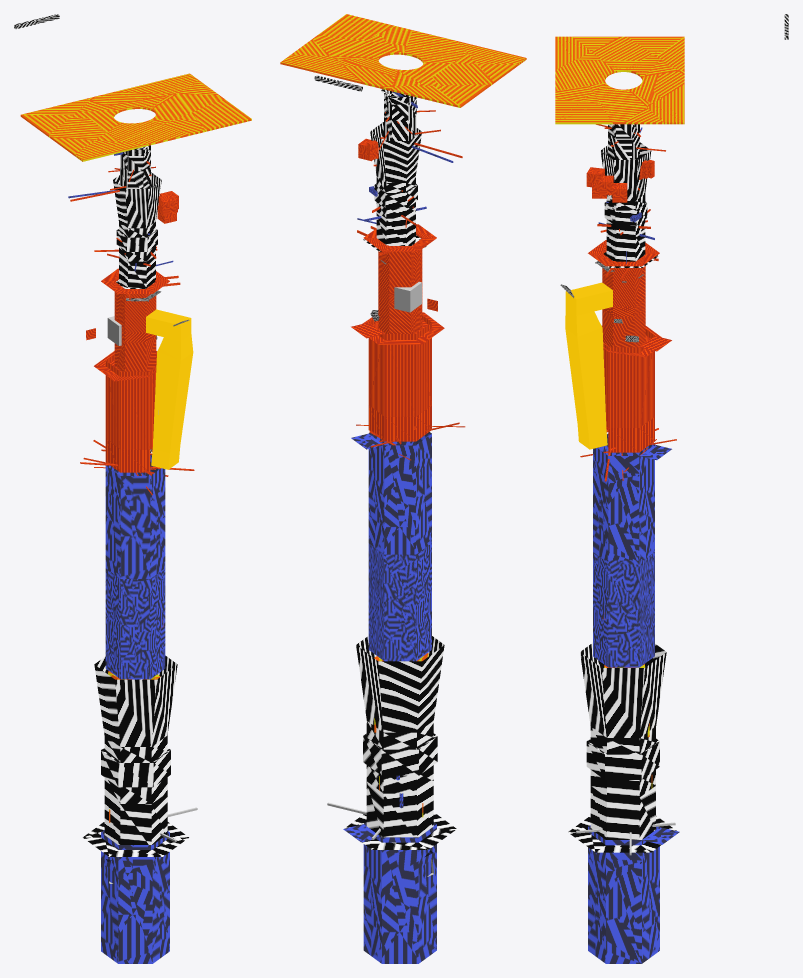
Rendered from collision-world.glb.
3 views of the same model, side by side, from view 1: azimuth 30°, elevation 25°; view 2: azimuth 150°, elevation 25°; view 3: azimuth 270°, elevation 25° (orthographic). The views are drawn at different scales.
Parts seen in each view (by area): view 1: Cylinder.004, FLOOR.001, safa.001, Cylinder.008, Cylinder.001, Cylinder.002, Cylinder.006, Cylinder.005, Cylinder.007; view 2: Cylinder.004, FLOOR.001, Cylinder.008, Cylinder.001, Cylinder.002, Cylinder.006, safa.001, Cylinder.005, Cylinder.007, Cube.048; view 3: Cylinder.004, FLOOR.001, safa.001, Cylinder.008, Cylinder.001, Cylinder.002, Cylinder.006, Cylinder.005, Cylinder.007.
Boxes of the visible parts, <box> form: Cylinder.004: <box>83,655,188,856</box>; FLOOR.001: <box>20,73,251,161</box>; safa.001: <box>86,268,193,469</box>; Cylinder.008: <box>101,830,169,963</box>; Cylinder.001: <box>105,455,165,578</box>; Cylinder.002: <box>105,568,165,679</box>; Cylinder.006: <box>105,354,156,472</box>; Cylinder.005: <box>113,172,161,288</box>; Cylinder.007: <box>120,145,150,188</box>; Cylinder.004: <box>344,636,456,849</box>; FLOOR.001: <box>280,14,526,107</box>; Cylinder.008: <box>343,822,436,963</box>; Cylinder.001: <box>351,432,431,554</box>; Cylinder.002: <box>368,543,431,661</box>; Cylinder.006: <box>351,315,431,441</box>; safa.001: <box>362,224,444,344</box>; Cylinder.005: <box>363,122,421,251</box>; Cylinder.007: <box>381,89,416,140</box>; Cube.048: <box>394,281,421,312</box>; Cylinder.004: <box>568,643,676,852</box>; FLOOR.001: <box>555,36,684,124</box>; safa.001: <box>565,240,661,449</box>; Cylinder.008: <box>588,825,679,963</box>; Cylinder.001: <box>593,434,671,560</box>; Cylinder.002: <box>593,552,654,667</box>; Cylinder.006: <box>603,329,671,452</box>; Cylinder.005: <box>600,142,657,267</box>; Cylinder.007: <box>608,124,639,159</box>.
Size of the model in its own units: 66.25 by 329 by 75.94.
13 materials, 11 textured.
